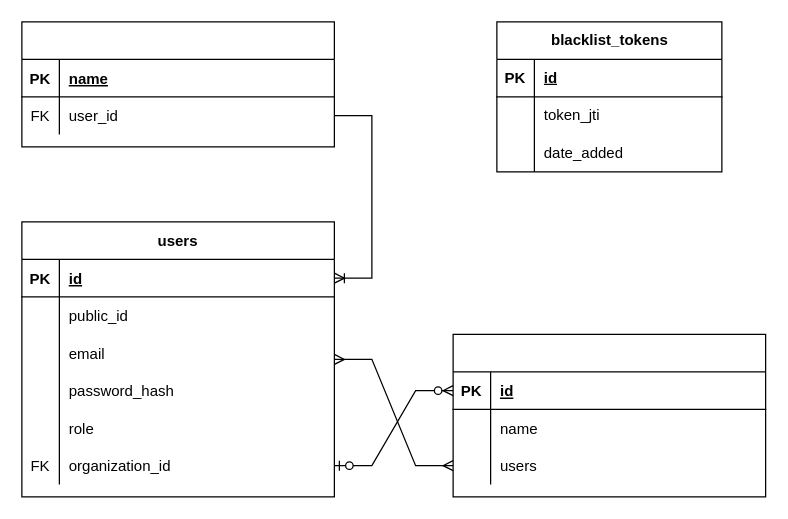
This 788x519 diagram has some shape labels left out. The shapes that lost their labels are listed below. From the top down, each one's box as (x1, y1, x2, y2) in pixels, then its label:
(21, 21, 334, 147): datasets
(452, 333, 766, 497): organizations
